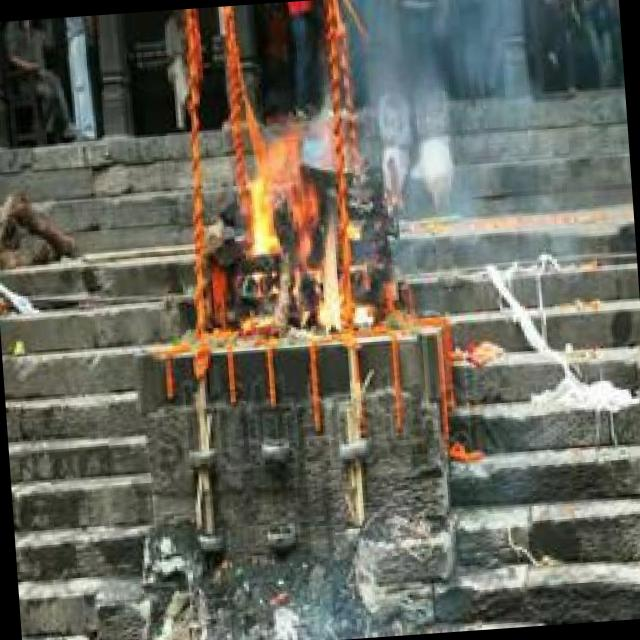Fire: (235, 112, 352, 340)
